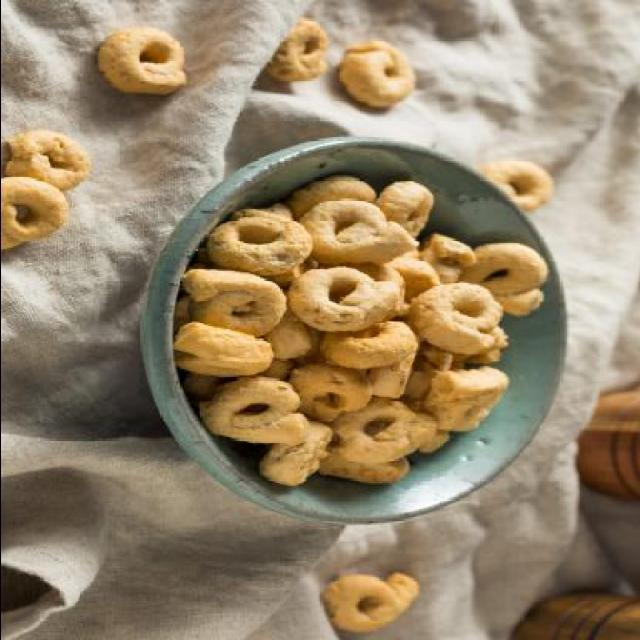Taralli: (183, 162, 551, 496), (269, 19, 413, 107), (0, 127, 91, 250), (104, 24, 188, 94), (329, 570, 418, 634)
